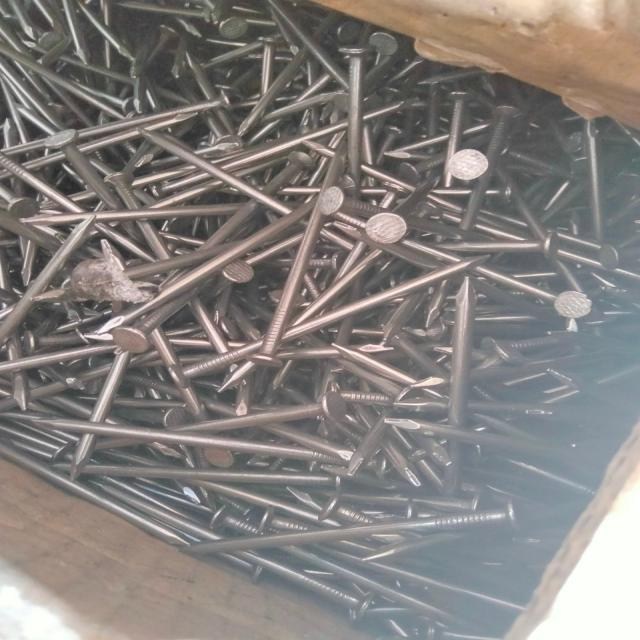3x10 nail: (249, 120, 432, 388), (161, 488, 572, 572)
